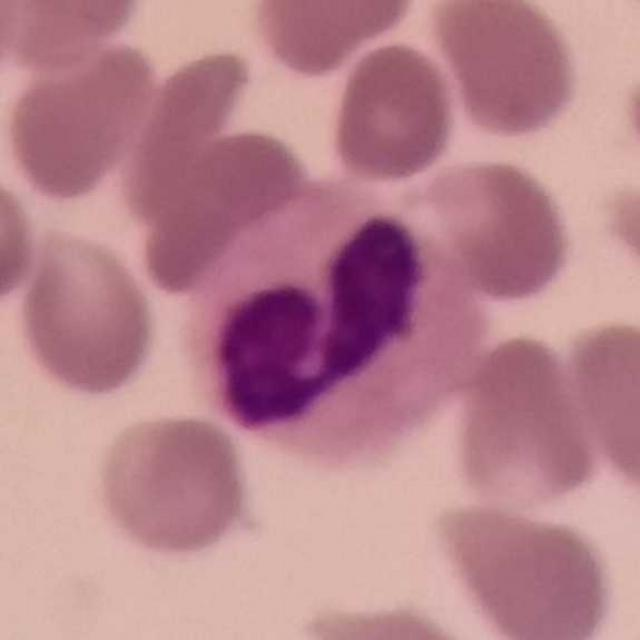Neutrophil: (182, 171, 493, 471)
RBC: (0, 26, 165, 204), (425, 493, 622, 640), (448, 328, 602, 516), (11, 223, 163, 403), (410, 153, 578, 306), (89, 409, 255, 562), (425, 0, 583, 144), (326, 38, 461, 186), (147, 119, 317, 235), (558, 312, 640, 504), (245, 0, 423, 80), (0, 0, 152, 74), (283, 597, 504, 640), (0, 157, 41, 314), (599, 176, 640, 287), (0, 1, 28, 105), (620, 52, 640, 185)
